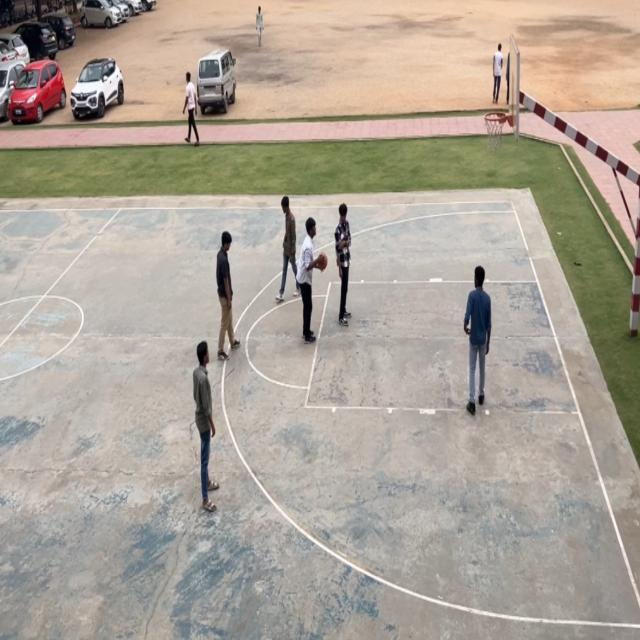basketball: (317, 248, 329, 276)
hoop: (483, 110, 506, 154)
